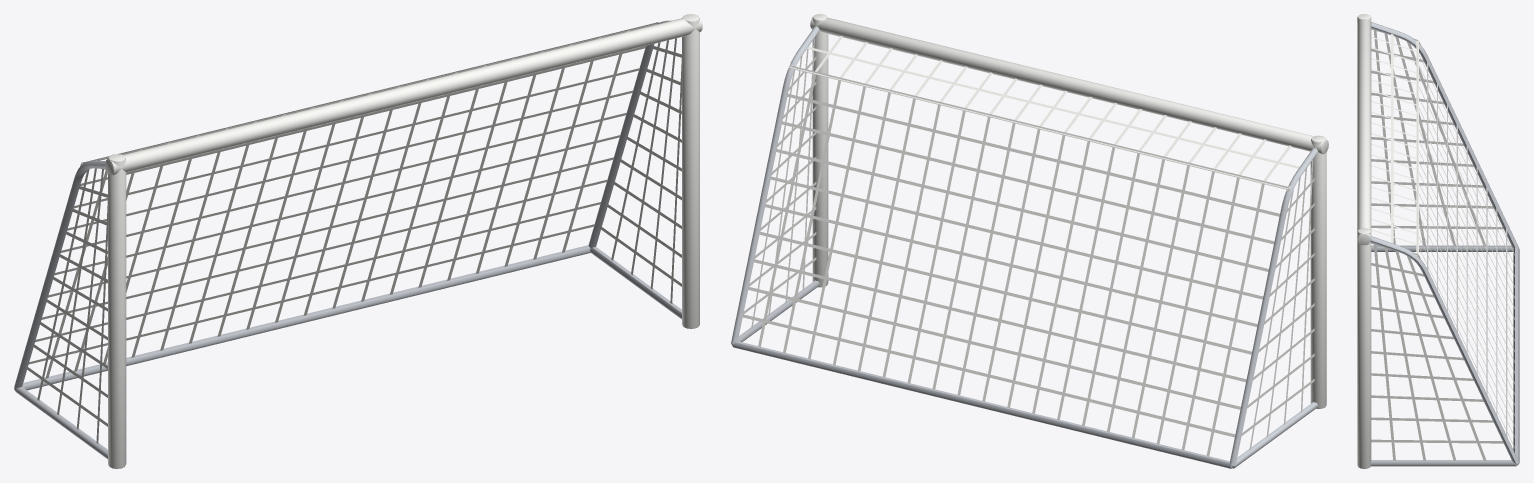
File: trave_gol.glb
3 views of the same model, side by side, from view 1: azimuth 30°, elevation 25°; view 2: azimuth 150°, elevation 25°; view 3: azimuth 270°, elevation 25° (orthographic). The views are drawn at different scales.
Parts seen in each view (by area): view 1: trave_gol; view 2: trave_gol; view 3: trave_gol.
Part boxes in pixels (x1,y1,x2,y2): trave_gol: (14,14,702,468); trave_gol: (731,14,1328,468); trave_gol: (1357,14,1519,468).
Bounding box in the file's own units: 4.11 × 2.06 × 1.28.
1 material, 1 textured.
